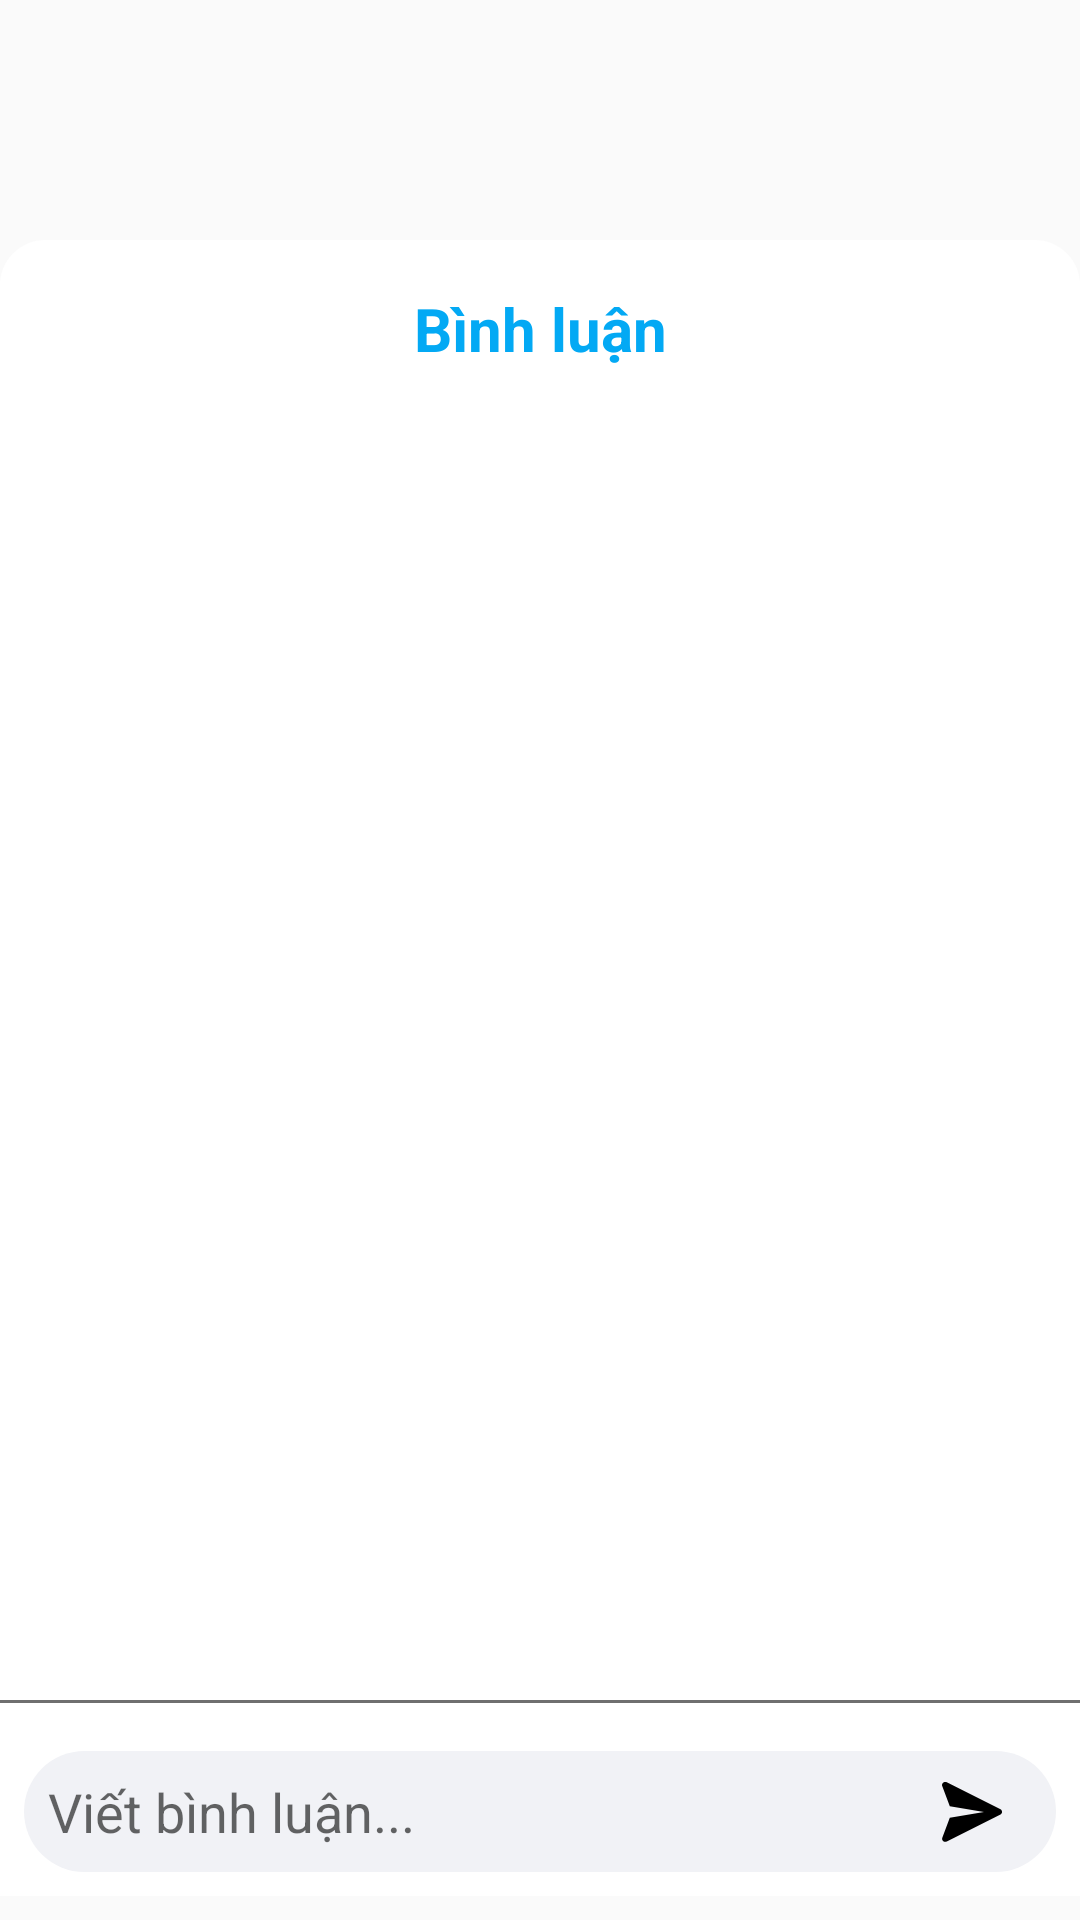

Screen size 1080 × 1920. Icon name, then its box in pixels as (x1, y1, x2, y2):
send: (942, 1782, 1002, 1842)
